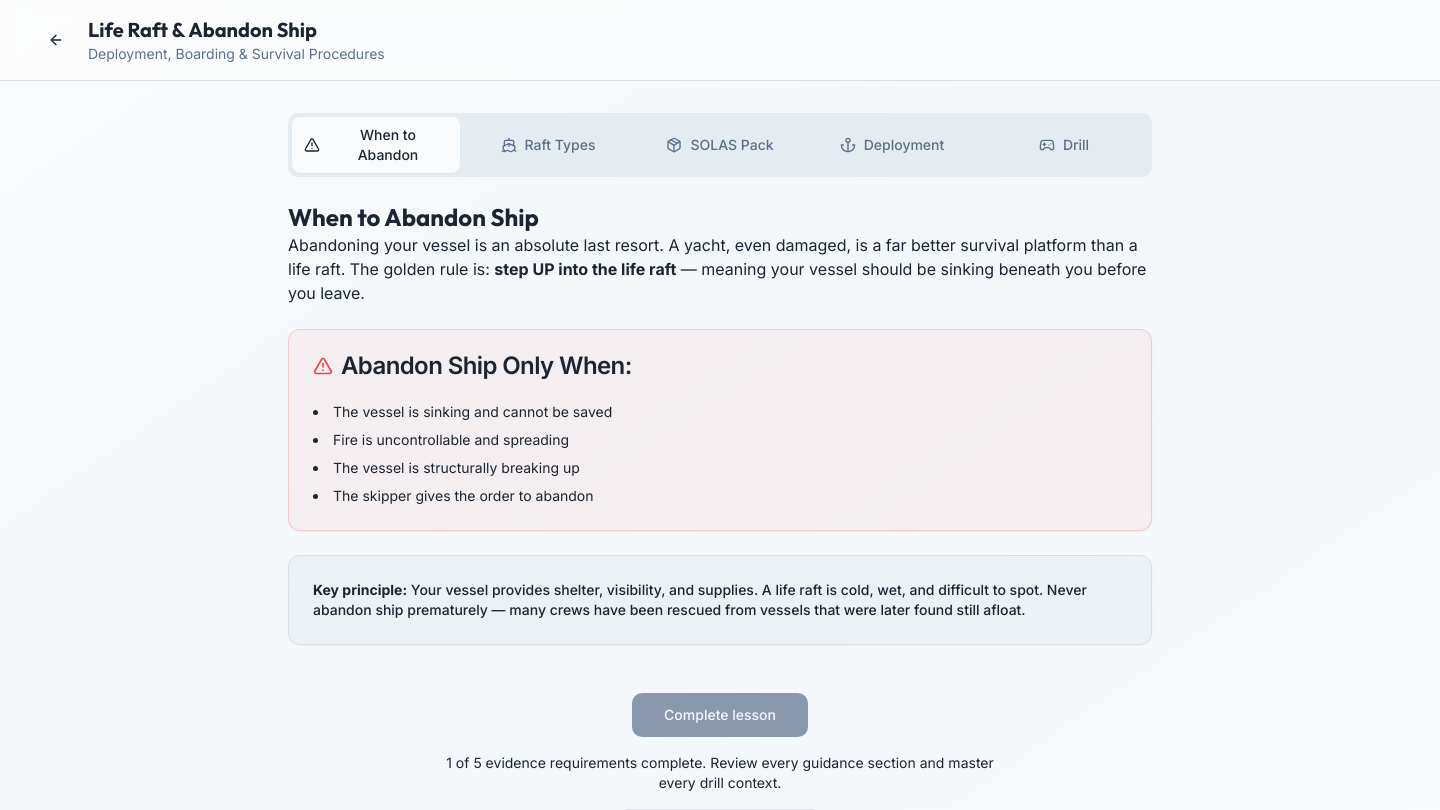
Scenario: LifeRaftTheory Page › should render a link to the life raft quiz in the Drill tab
Click the tab "Drill" at (1064, 145), box [980, 123, 1148, 167]
(page scrolled)
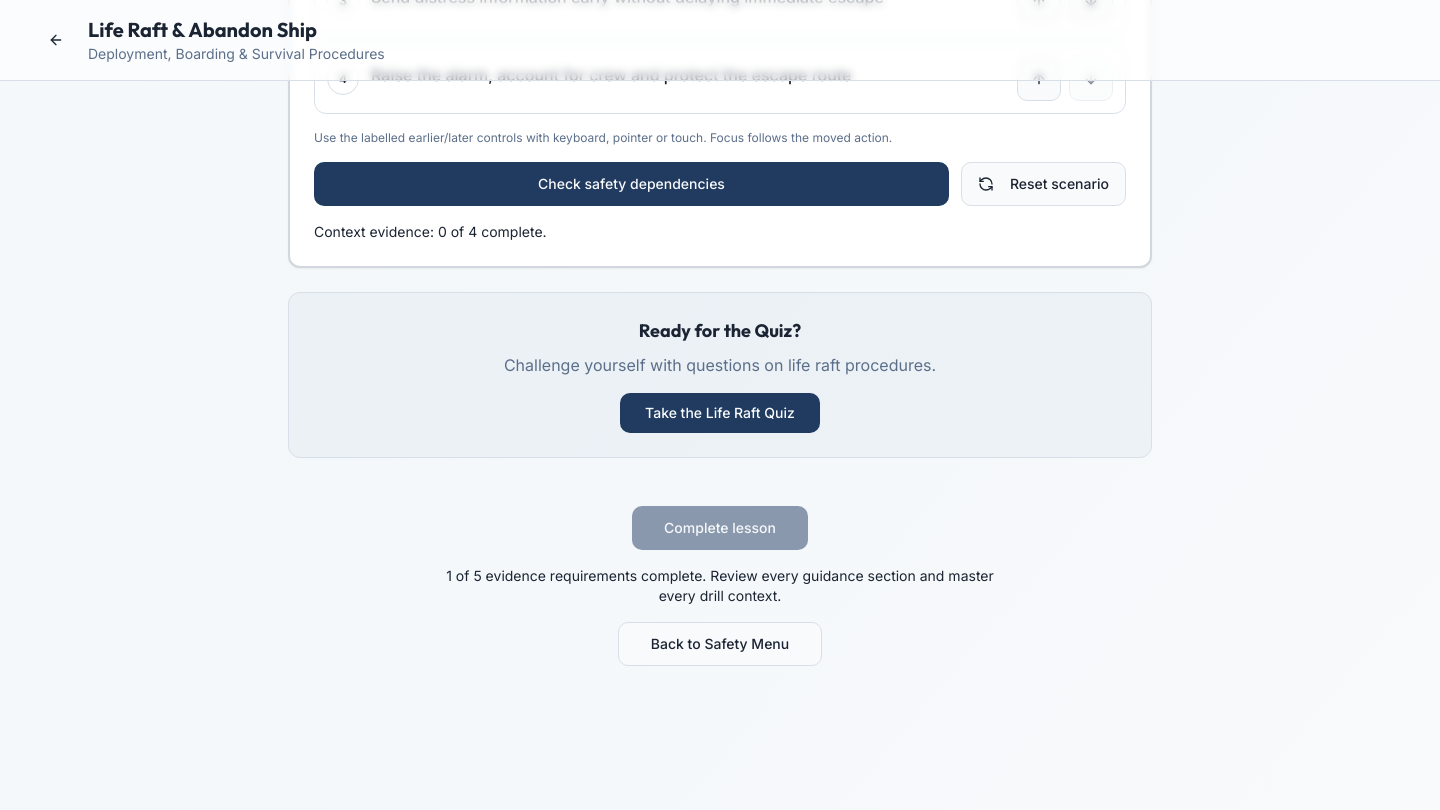
Expected: the button "Take the Life Raft Quiz" is shown, [620, 393, 820, 433]
